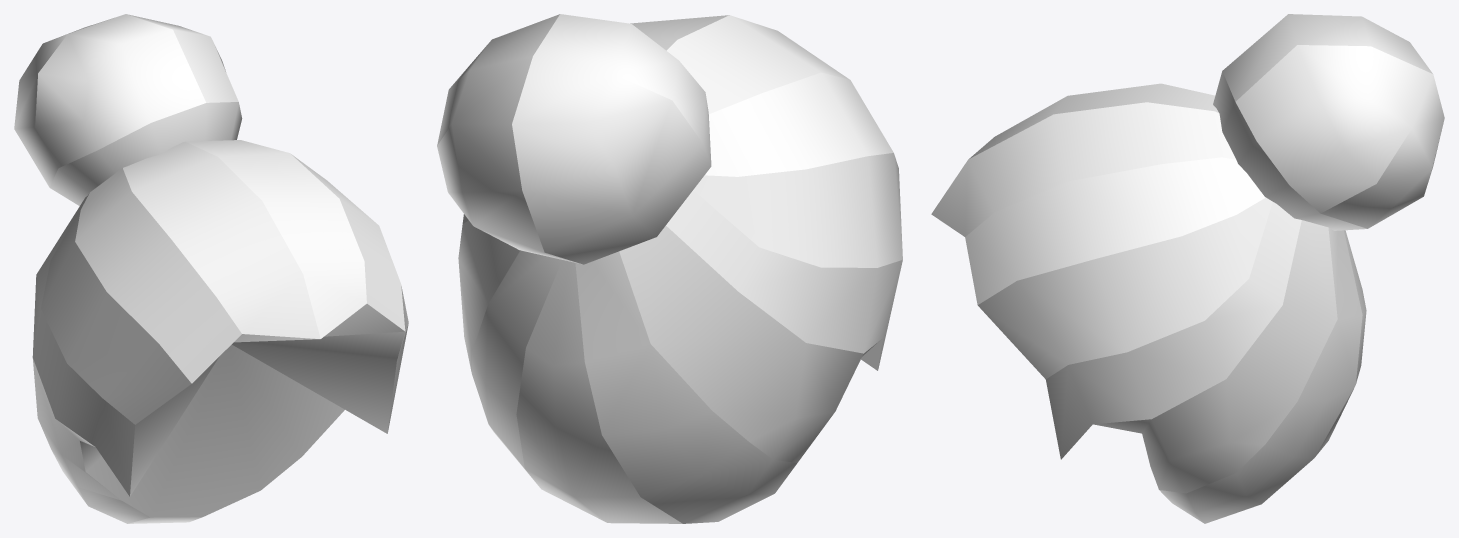
The model's file is Female_Hairs_03.fbx.
3 views of the same model, side by side, from view 1: azimuth 30°, elevation 25°; view 2: azimuth 150°, elevation 25°; view 3: azimuth 270°, elevation 25° (orthographic). The views are drawn at different scales.
Visible parts, largest first — view 1: Female_Hairs_03; view 2: Female_Hairs_03; view 3: Female_Hairs_03.
Part boxes in pixels (bbox=[...]): Female_Hairs_03: bbox=[14, 14, 408, 523]; Female_Hairs_03: bbox=[437, 14, 902, 523]; Female_Hairs_03: bbox=[931, 14, 1444, 523].
Bounding box in the file's own units: 55.91 × 76.21 × 74.14.
